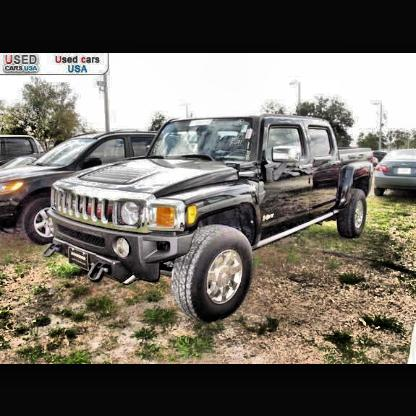HUMMER H3T Crew Cab 2010: (51, 114, 376, 324)
